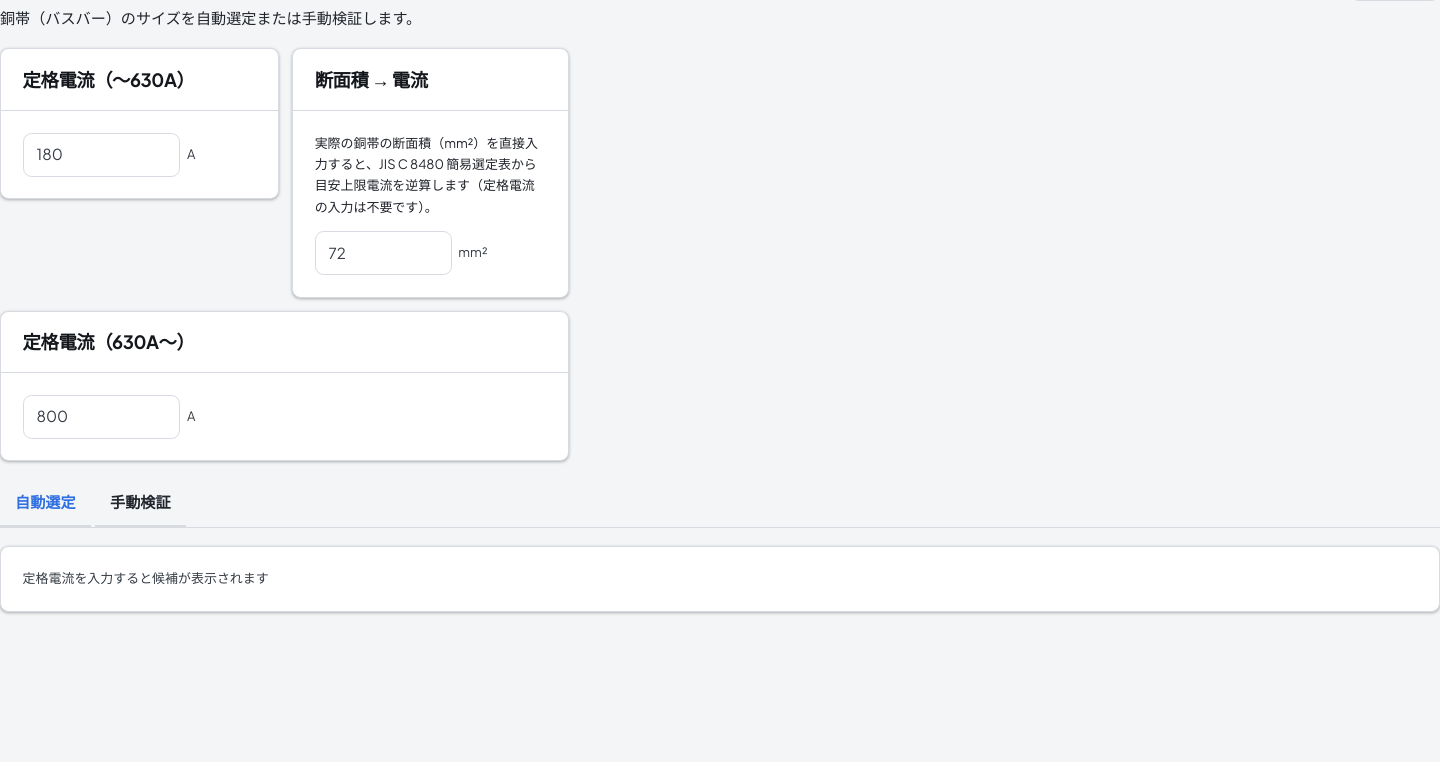
Test: BusbarCalculationView — 定格電流 is two independent range-scoped boxes, not one auto-switching field (spec follow-up) › shows real geometry candidates marked 要確認 (never a fabricated OK) for a value typed into the 630A～ box, and still lets the user adopt one
The image size is (1440, 762).
Step 1. Type "1000" into the number field with placeholder "800" → point(102, 417), box x1=23 y1=395 x2=180 y2=439
(page scrolled)
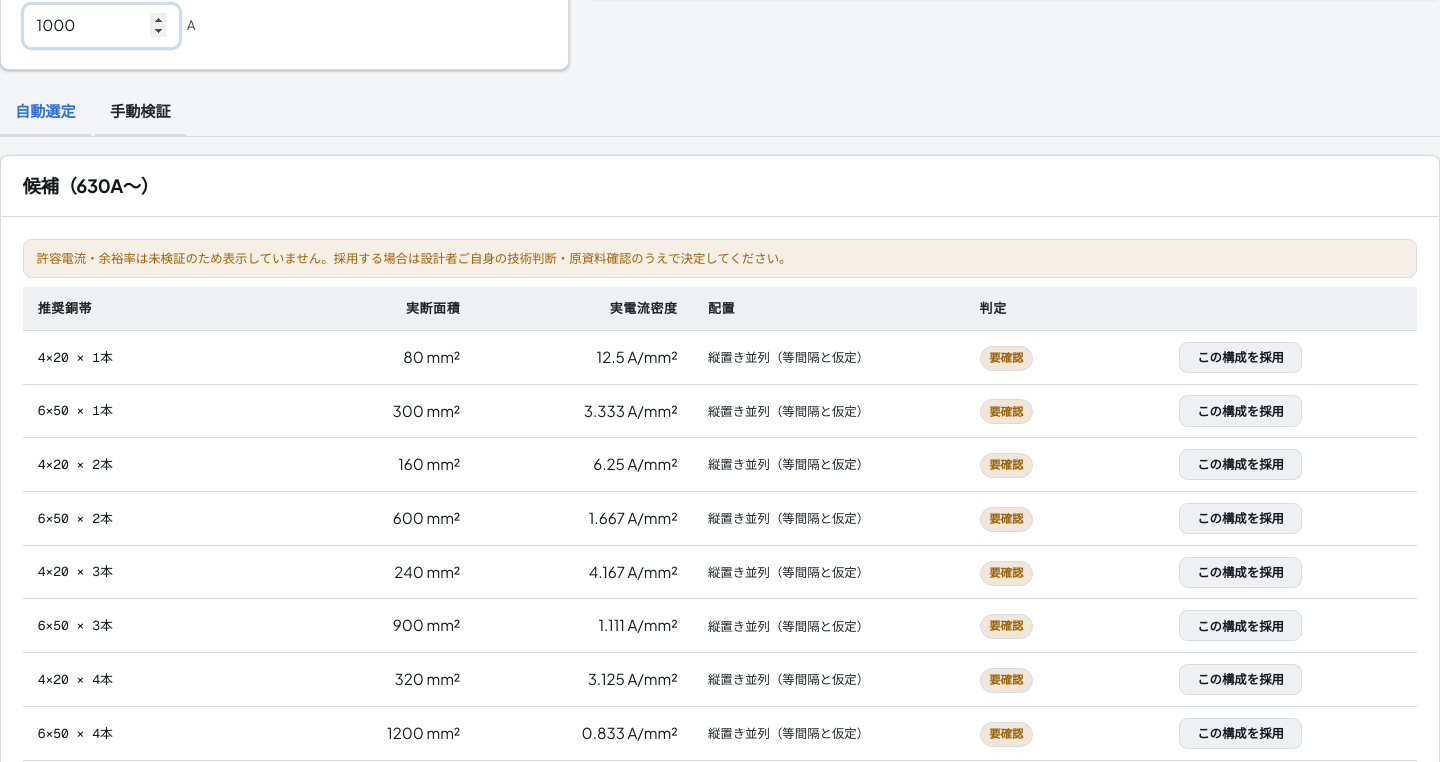
Expected: the text "要確認" in the row of "12.5" is shown, x1=989 y1=350 x2=1023 y2=365
Step 2. Click the button "この構成を採用" in the row of "12.5" → point(1241, 357), box x1=1179 y1=342 x2=1302 y2=373
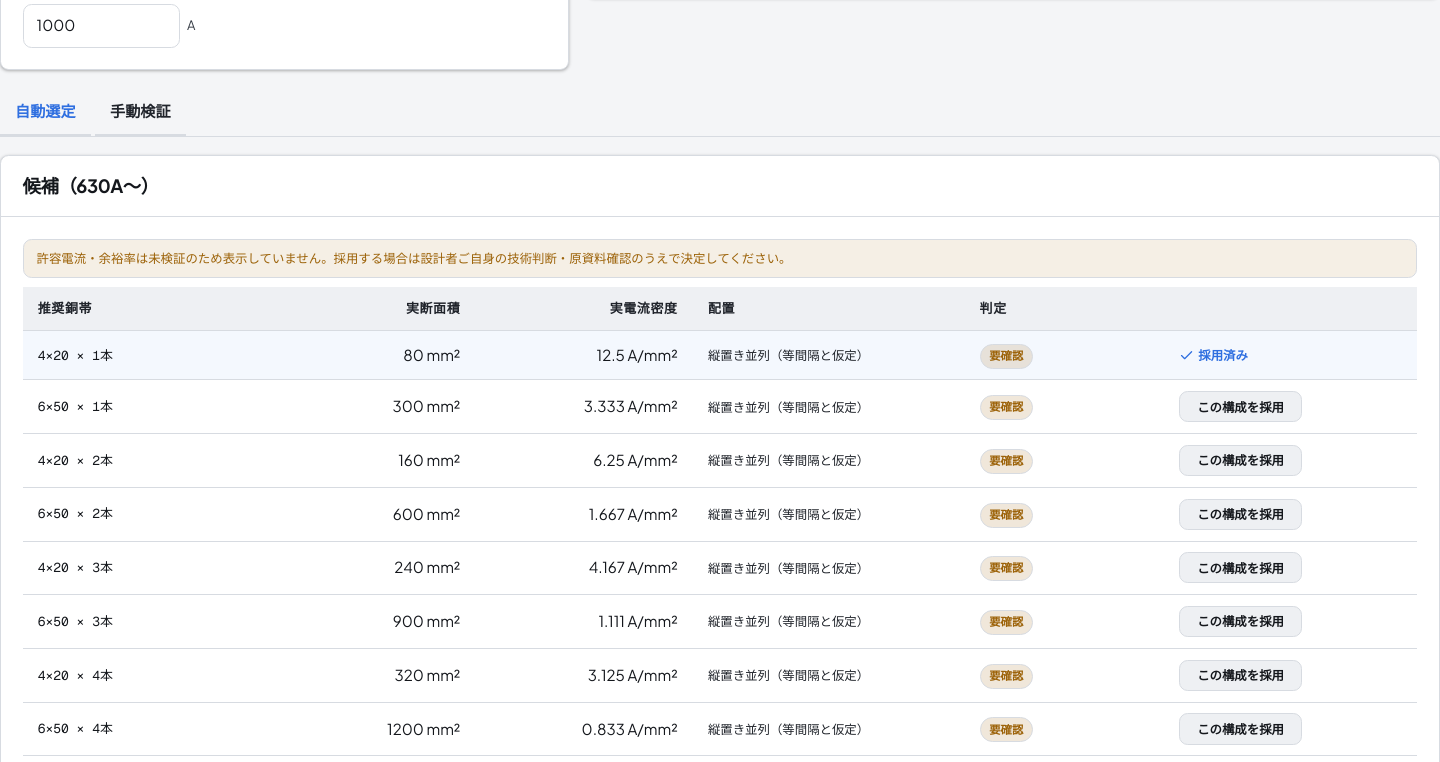
Expected: the text "採用済み" is shown, x1=1179 y1=347 x2=1248 y2=363
